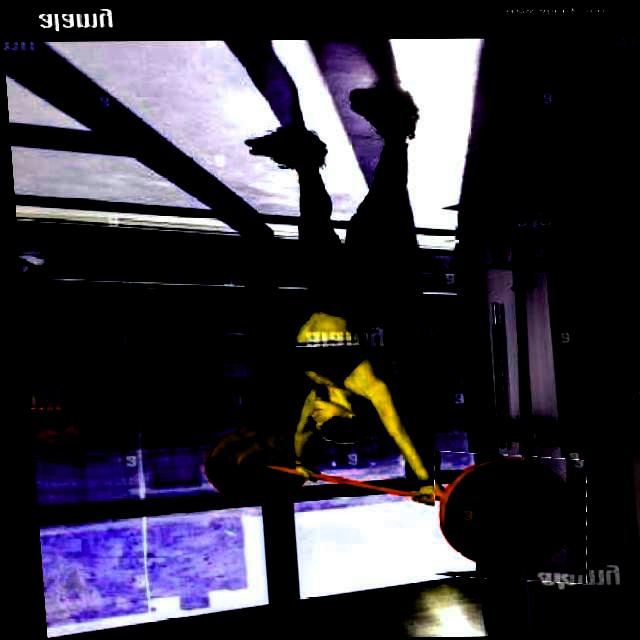barbell: (422, 454, 584, 584)
